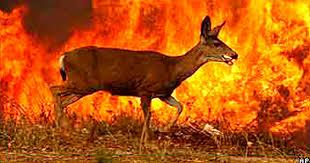fire: (233, 0, 309, 129), (191, 63, 309, 132), (63, 1, 200, 48), (1, 7, 52, 118), (72, 98, 139, 124)
